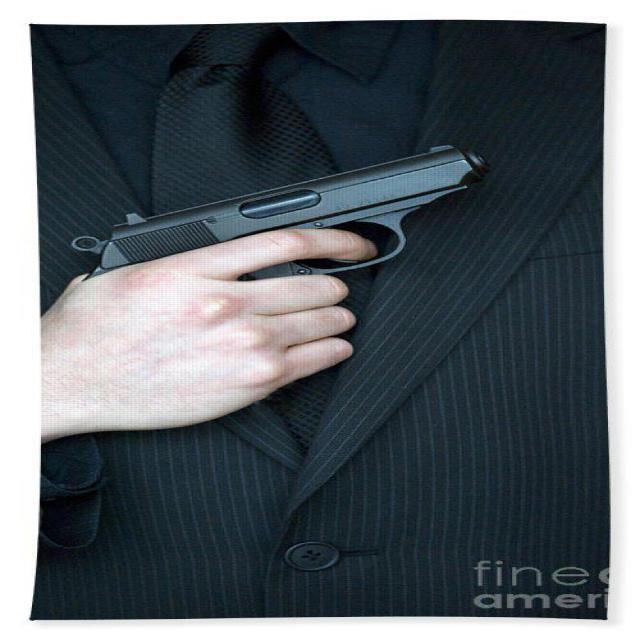Handgun: (50, 137, 519, 384)
